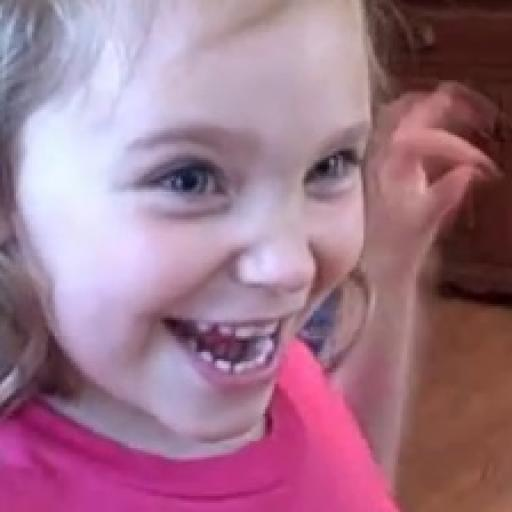Autism: (23, 0, 441, 490)
